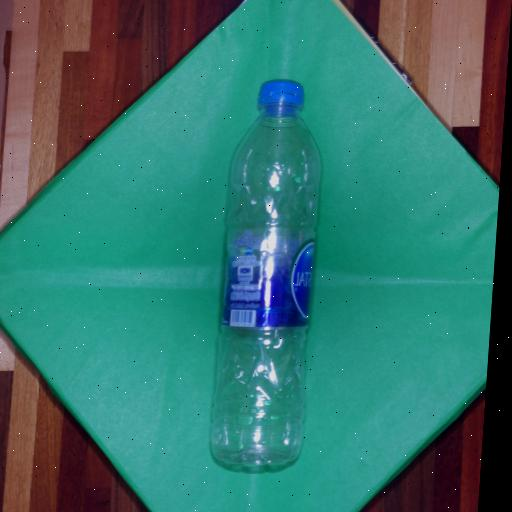bottle: (211, 81, 319, 466)
